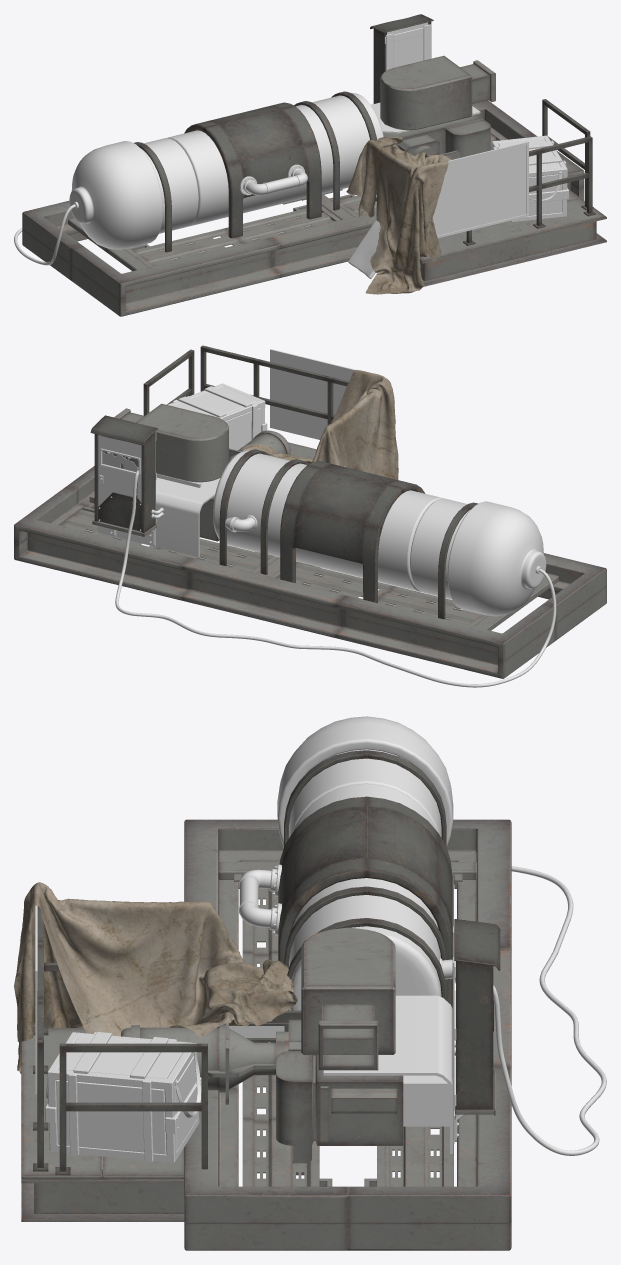
File: PowerGeneratorA.fbx
3 renders of one model, top to bottom at view 1: azimuth 30°, elevation 25°; view 2: azimuth 150°, elevation 25°; view 3: azimuth 270°, elevation 25°, orthographic. The views are drawn at different scales.
Visible parts, largest first — view 1: PowerGeneratorA; view 2: PowerGeneratorA; view 3: PowerGeneratorA.
Part boxes in pixels (bbox=[...]): PowerGeneratorA: bbox=[14, 14, 606, 316]; PowerGeneratorA: bbox=[14, 345, 606, 687]; PowerGeneratorA: bbox=[14, 716, 606, 1250].
Bounding box in the file's own units: 2.89 × 0.8269 × 1.88.
